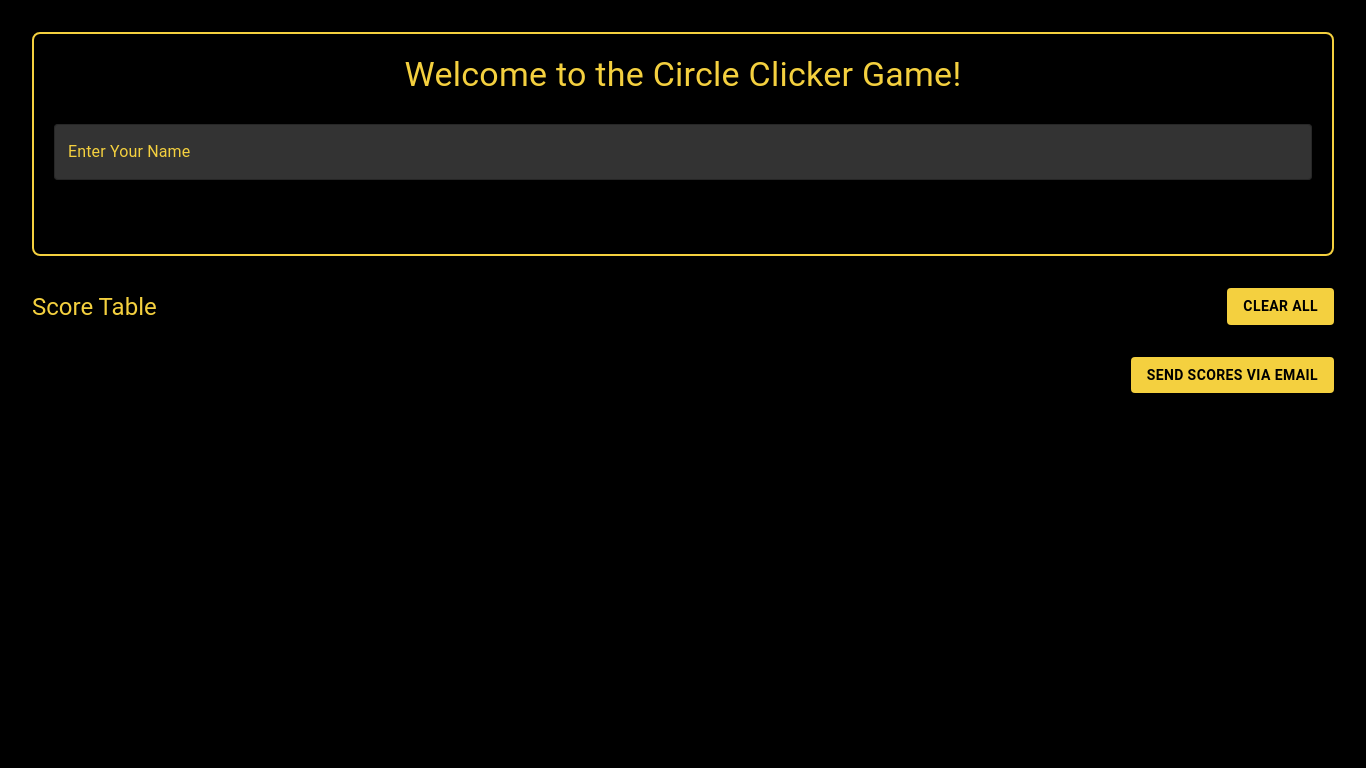
Test case: starts the game and displays score and timer
Step 1. Type "Bob" into the field labelled "Enter Your Name" → x=683, y=152, box x1=54 y1=124 x2=1312 y2=180
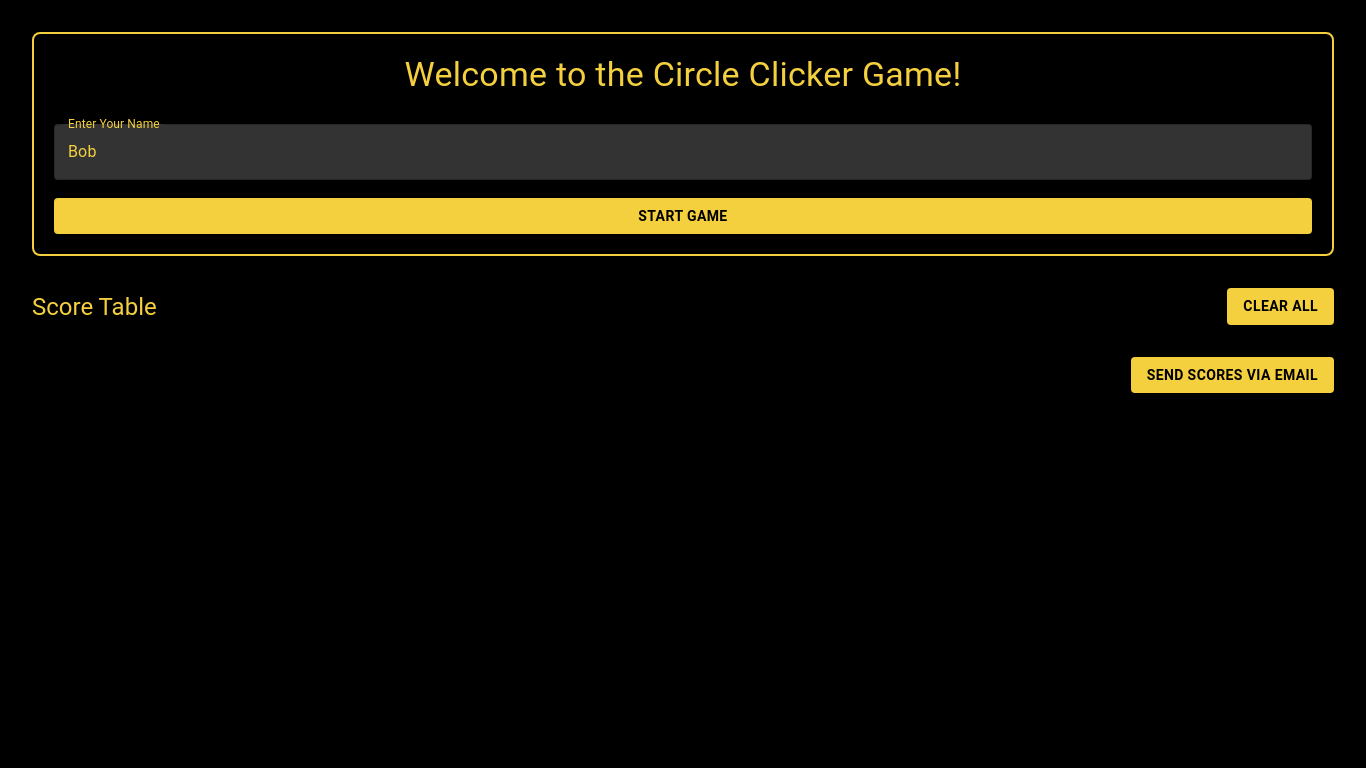
Step 2. Click the button "Start Game" → x=683, y=216, box x1=54 y1=198 x2=1312 y2=234
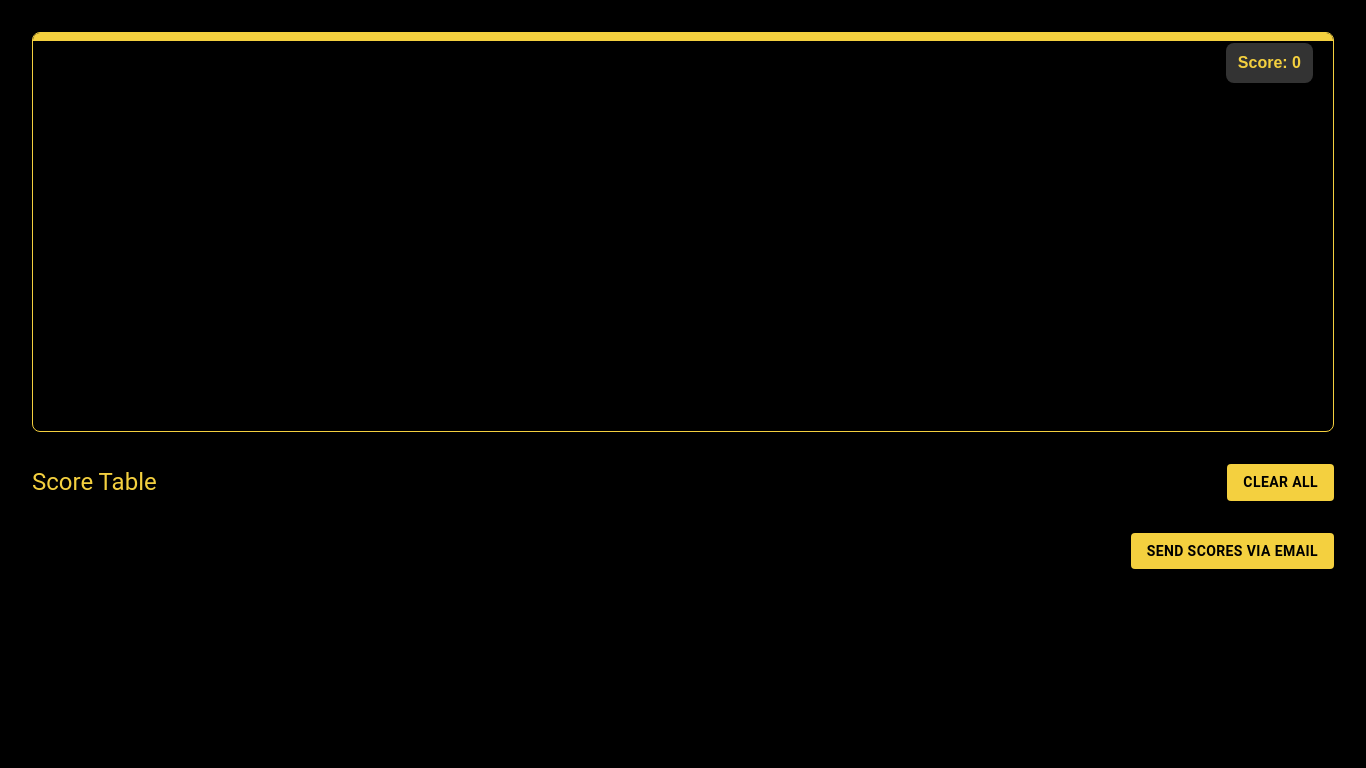
Expected: the text "Score: 0" is shown, x1=1226 y1=43 x2=1313 y2=83
